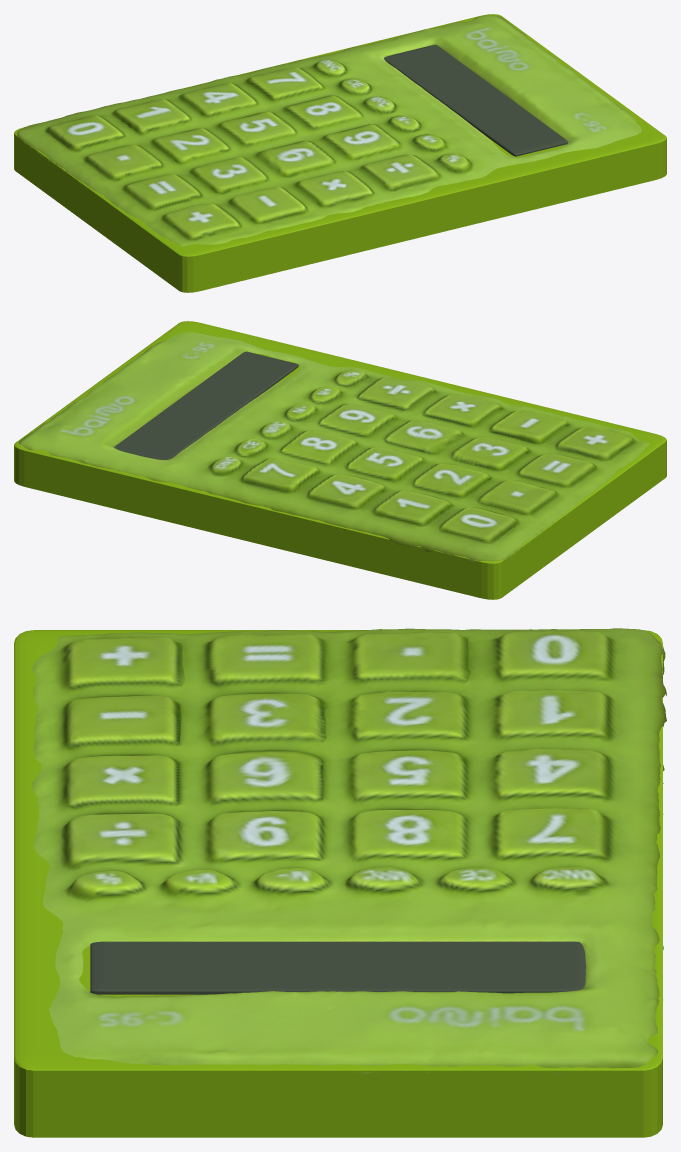
File: calculator.fbx
3 renders of one model, top to bottom at view 1: azimuth 30°, elevation 25°; view 2: azimuth 150°, elevation 25°; view 3: azimuth 270°, elevation 25°, orthographic. The views are drawn at different scales.
Parts seen in each view (by area): view 1: 3DModel, Cube, Cube.001; view 2: 3DModel, Cube, Cube.001; view 3: 3DModel, Cube, Cube.001.
Boxes of the visible parts, x1,y1,x2,y2 form: 3DModel: (17, 15, 641, 246); Cube: (14, 14, 666, 292); Cube.001: (384, 45, 567, 156); 3DModel: (19, 332, 649, 562); Cube: (14, 321, 666, 599); Cube.001: (114, 351, 298, 459); 3DModel: (32, 628, 666, 1074); Cube: (14, 630, 662, 1137); Cube.001: (90, 941, 585, 994).
Bounding box in the file's own units: 21.29 × 2.1 × 13.28.
3 materials, 1 textured.
